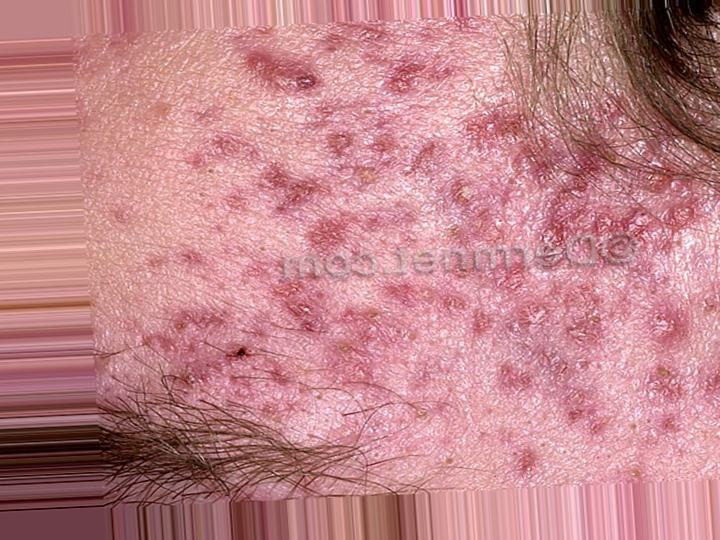Acne: (76, 35, 719, 480)
